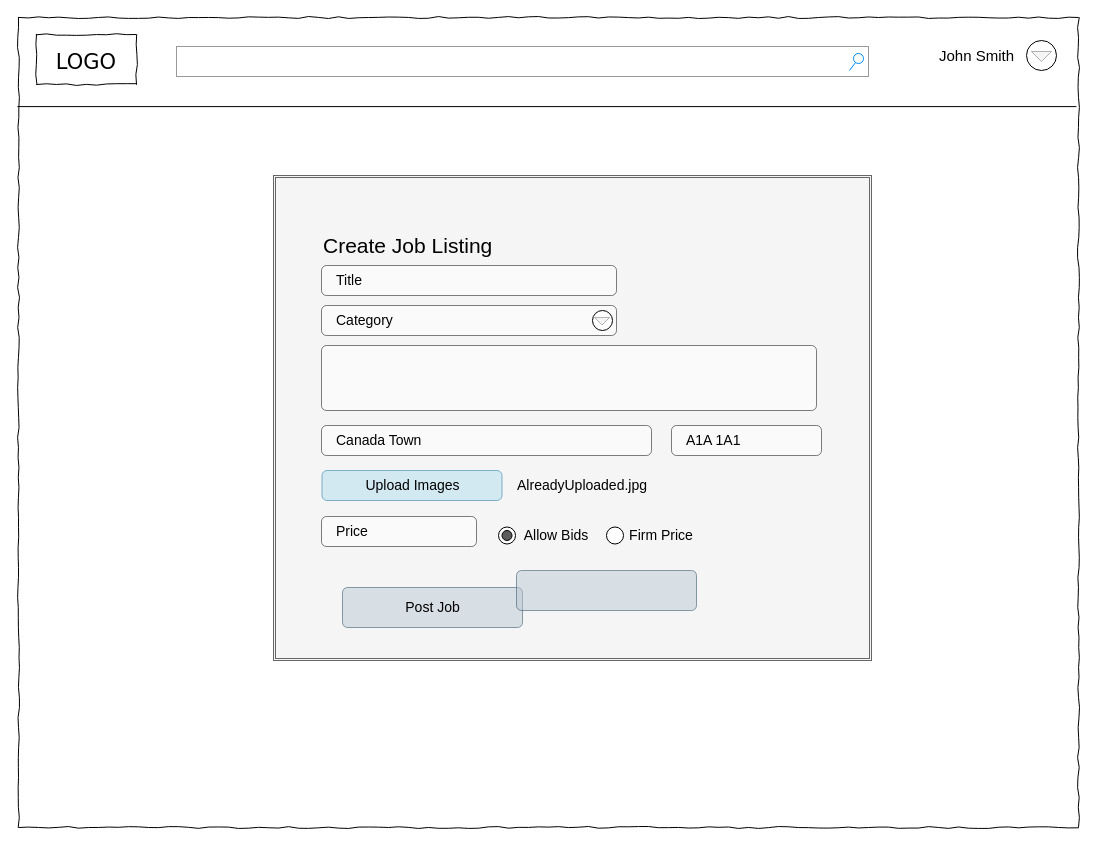
This 1097x845 diagram has some shape labels left out. The shapes that lost their labels are listed below. From the top down, each one's centre as x and y in pixels, then its label:
point (522, 61): Search
point (568, 377): Description
point (606, 590): Preview
